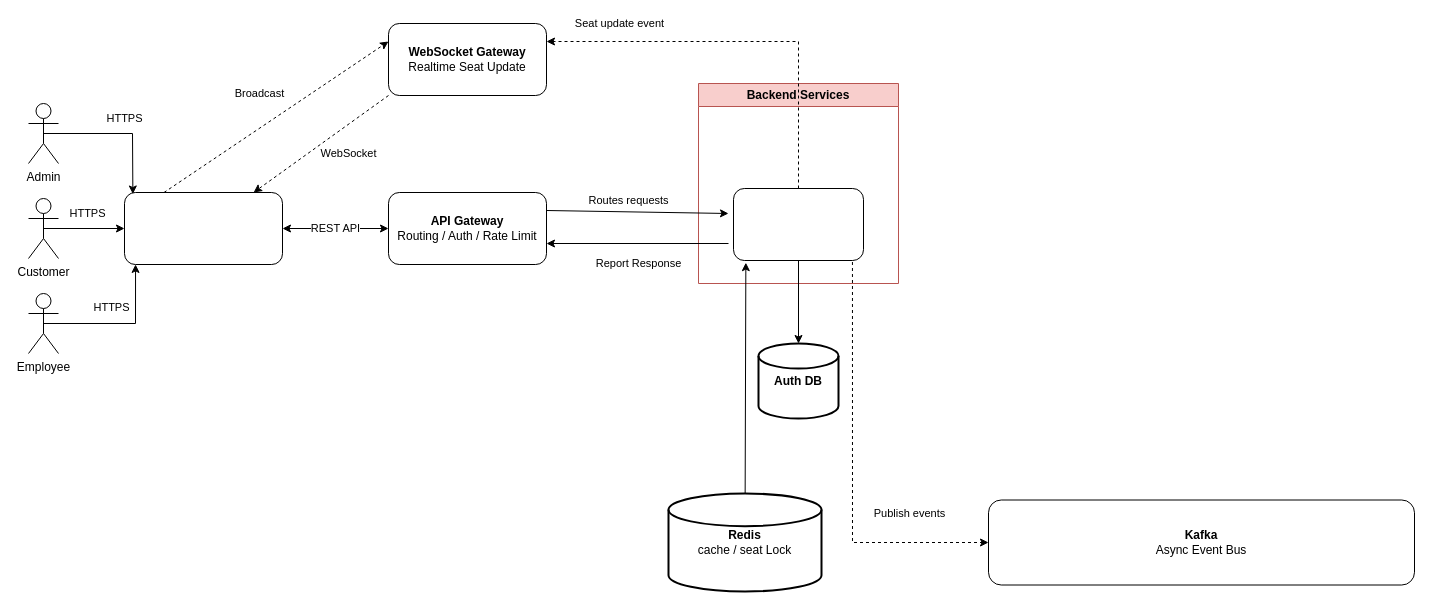
This 1432x610 diagram has some shape labels left out. The shapes that lost their labels are listed below. From the top down, each one's centre as x and y in pixels, then its label:
At pixel 203 228: "React Frontend UI / Client".
At pixel 798 224: "Booking Service".
